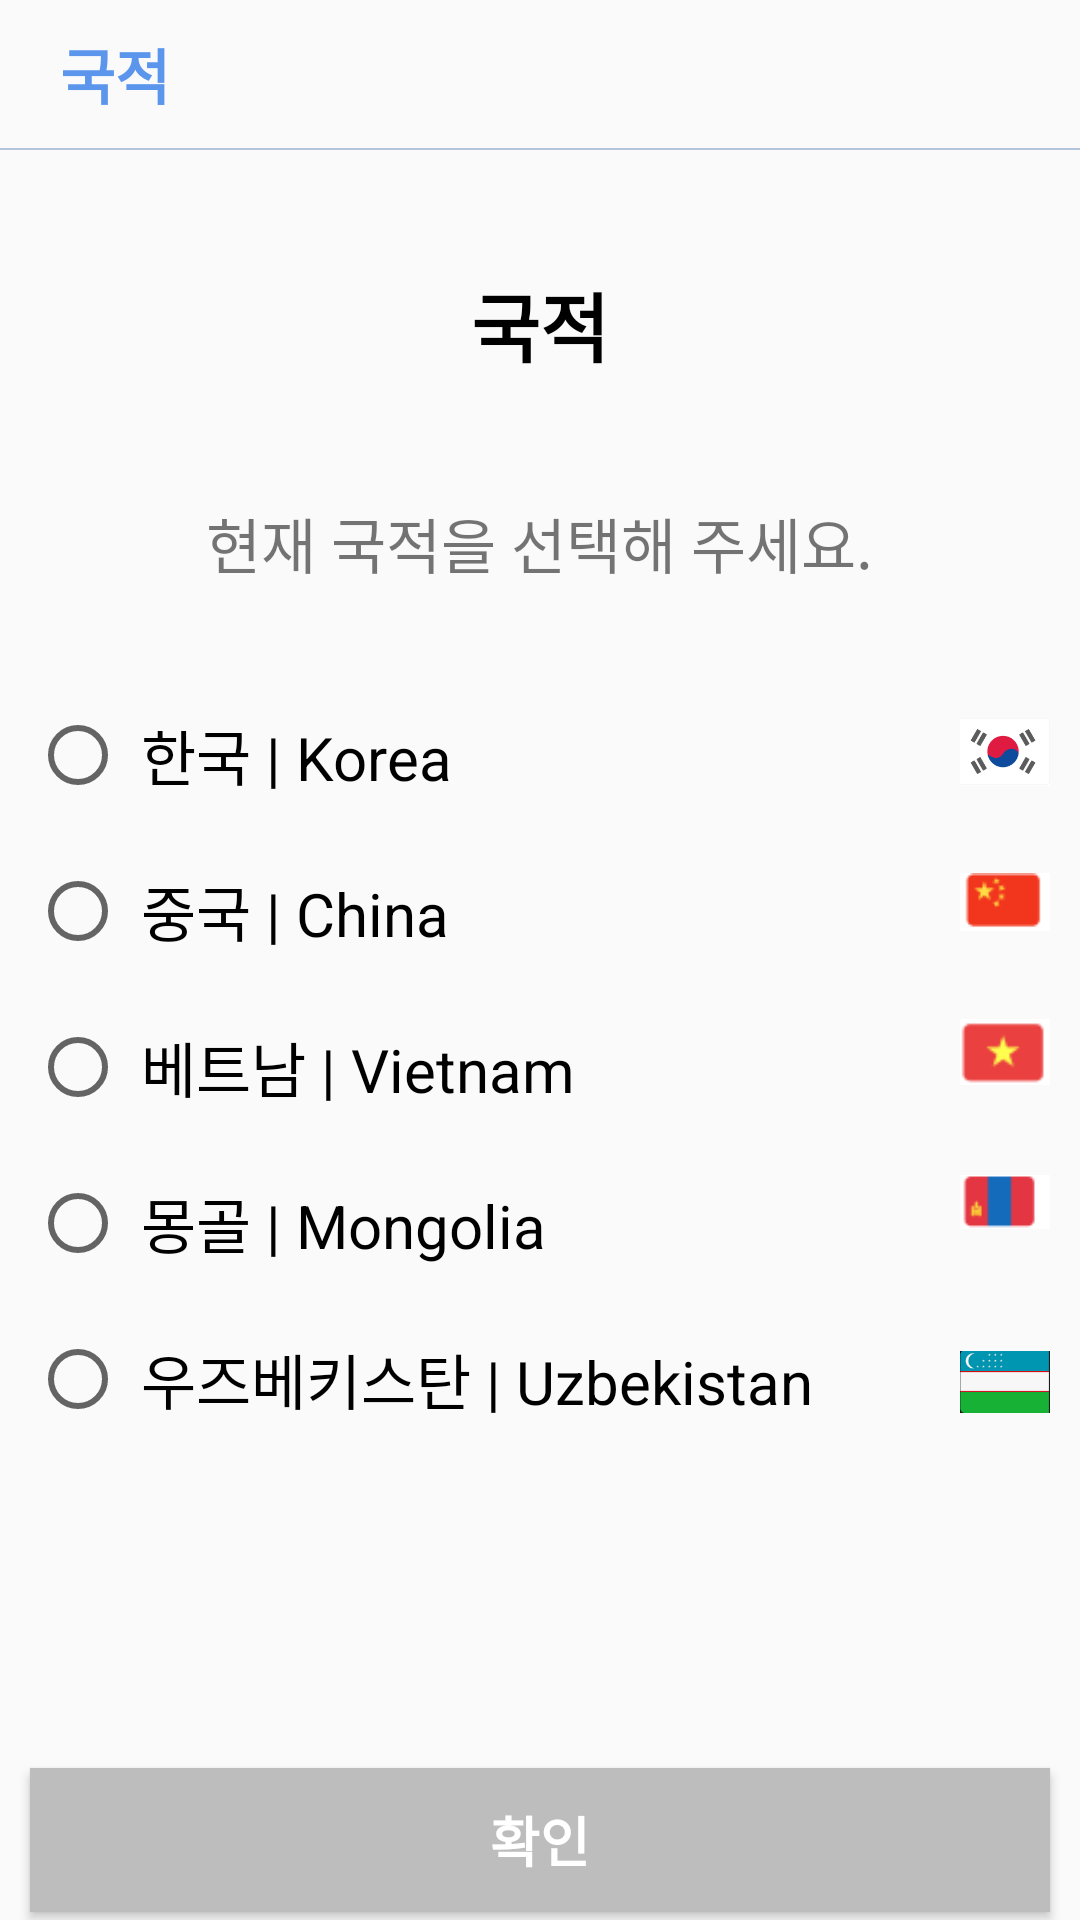

Named icons in this screenshot (1080x1920) and their bounding boxes, detection(x1, y1, x2, y2):
china flag: detection(966, 873, 1041, 927)
koreaflag: detection(971, 729, 1035, 774)
mongo flag: detection(963, 1176, 1035, 1228)
uzbek flag: detection(960, 1351, 1050, 1413)
vietnam flag: detection(962, 1023, 1044, 1083)
